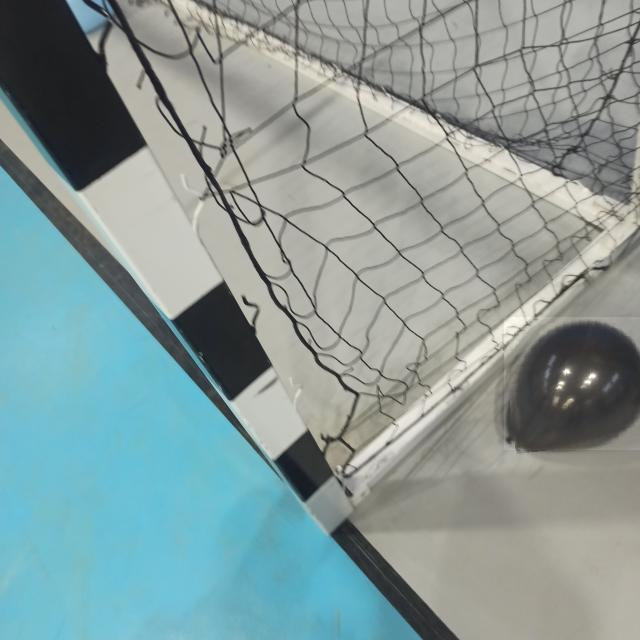balloon: (504, 317, 640, 450)
